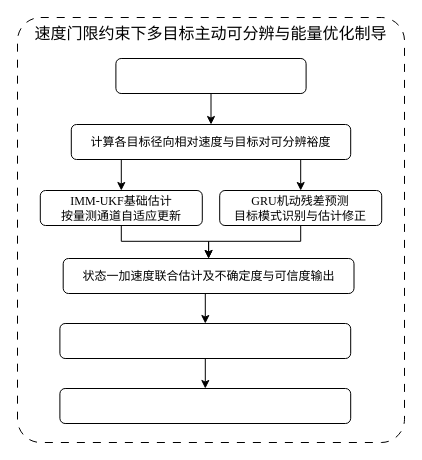
This 422x460 diagram has some shape labels left out. The centre of each missing label's shape, as x and y in pixels:
"可信度驱动的布鲁斯特角有利观测区间生成" goes at (x=205, y=340).
"建立多目标径向速度可分辨模型" goes at (x=210, y=76).
"视场、过载与终端约束下的鲁棒制导仿真" goes at (x=205, y=406).
